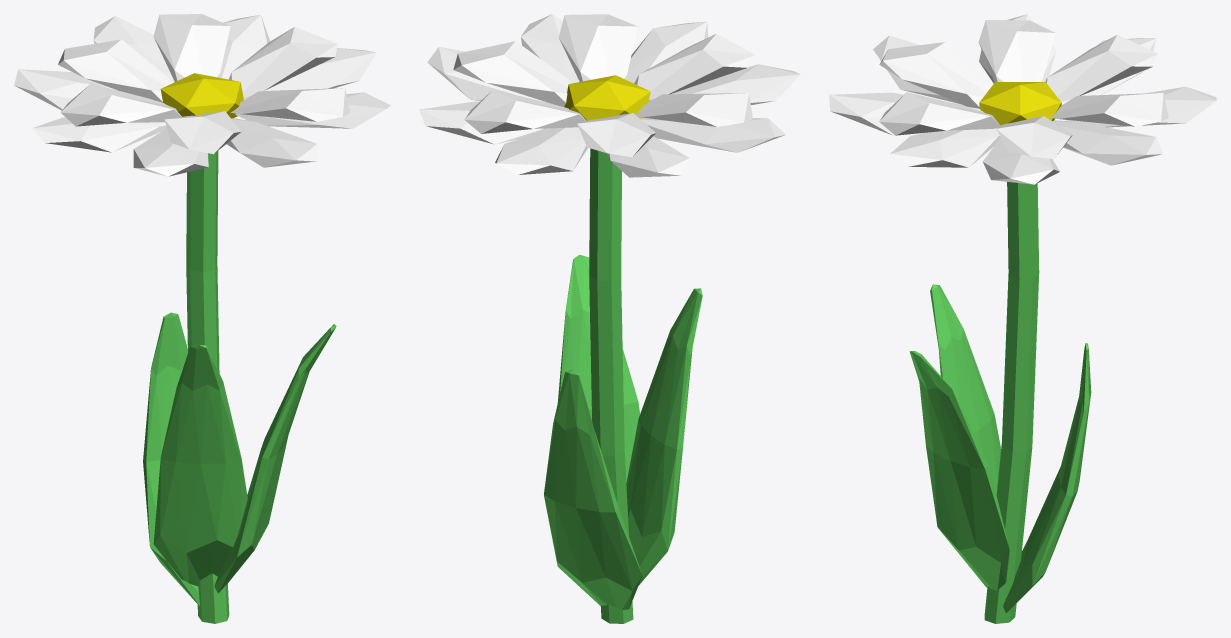
Rendered from daisy.fbx.
3 renders of one model, left to right at view 1: azimuth 30°, elevation 25°; view 2: azimuth 150°, elevation 25°; view 3: azimuth 270°, elevation 25°, orthographic. The views are drawn at different scales.
Visible parts, largest first — view 1: Flower; view 2: Flower; view 3: Flower.
Boxes of the visible parts, bbox=[...] form: Flower: bbox=[14, 14, 390, 623]; Flower: bbox=[419, 14, 800, 623]; Flower: bbox=[829, 14, 1216, 623].
Size of the model in its own units: 121 by 185 by 120.
